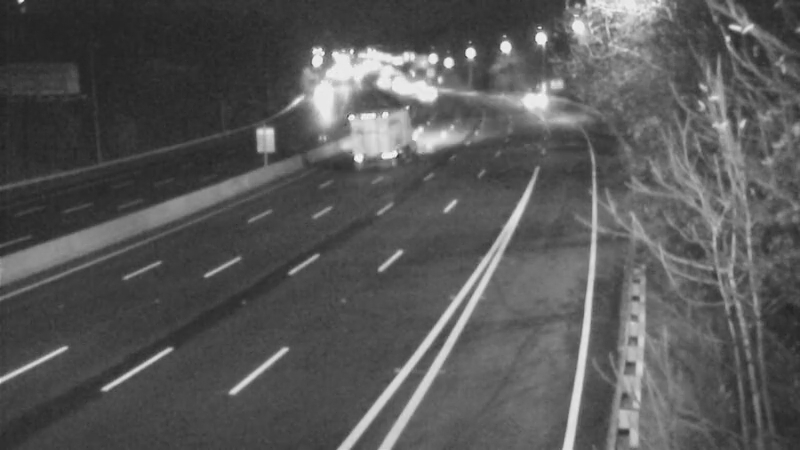vehicle: (345, 111, 395, 161), (509, 67, 559, 117)
